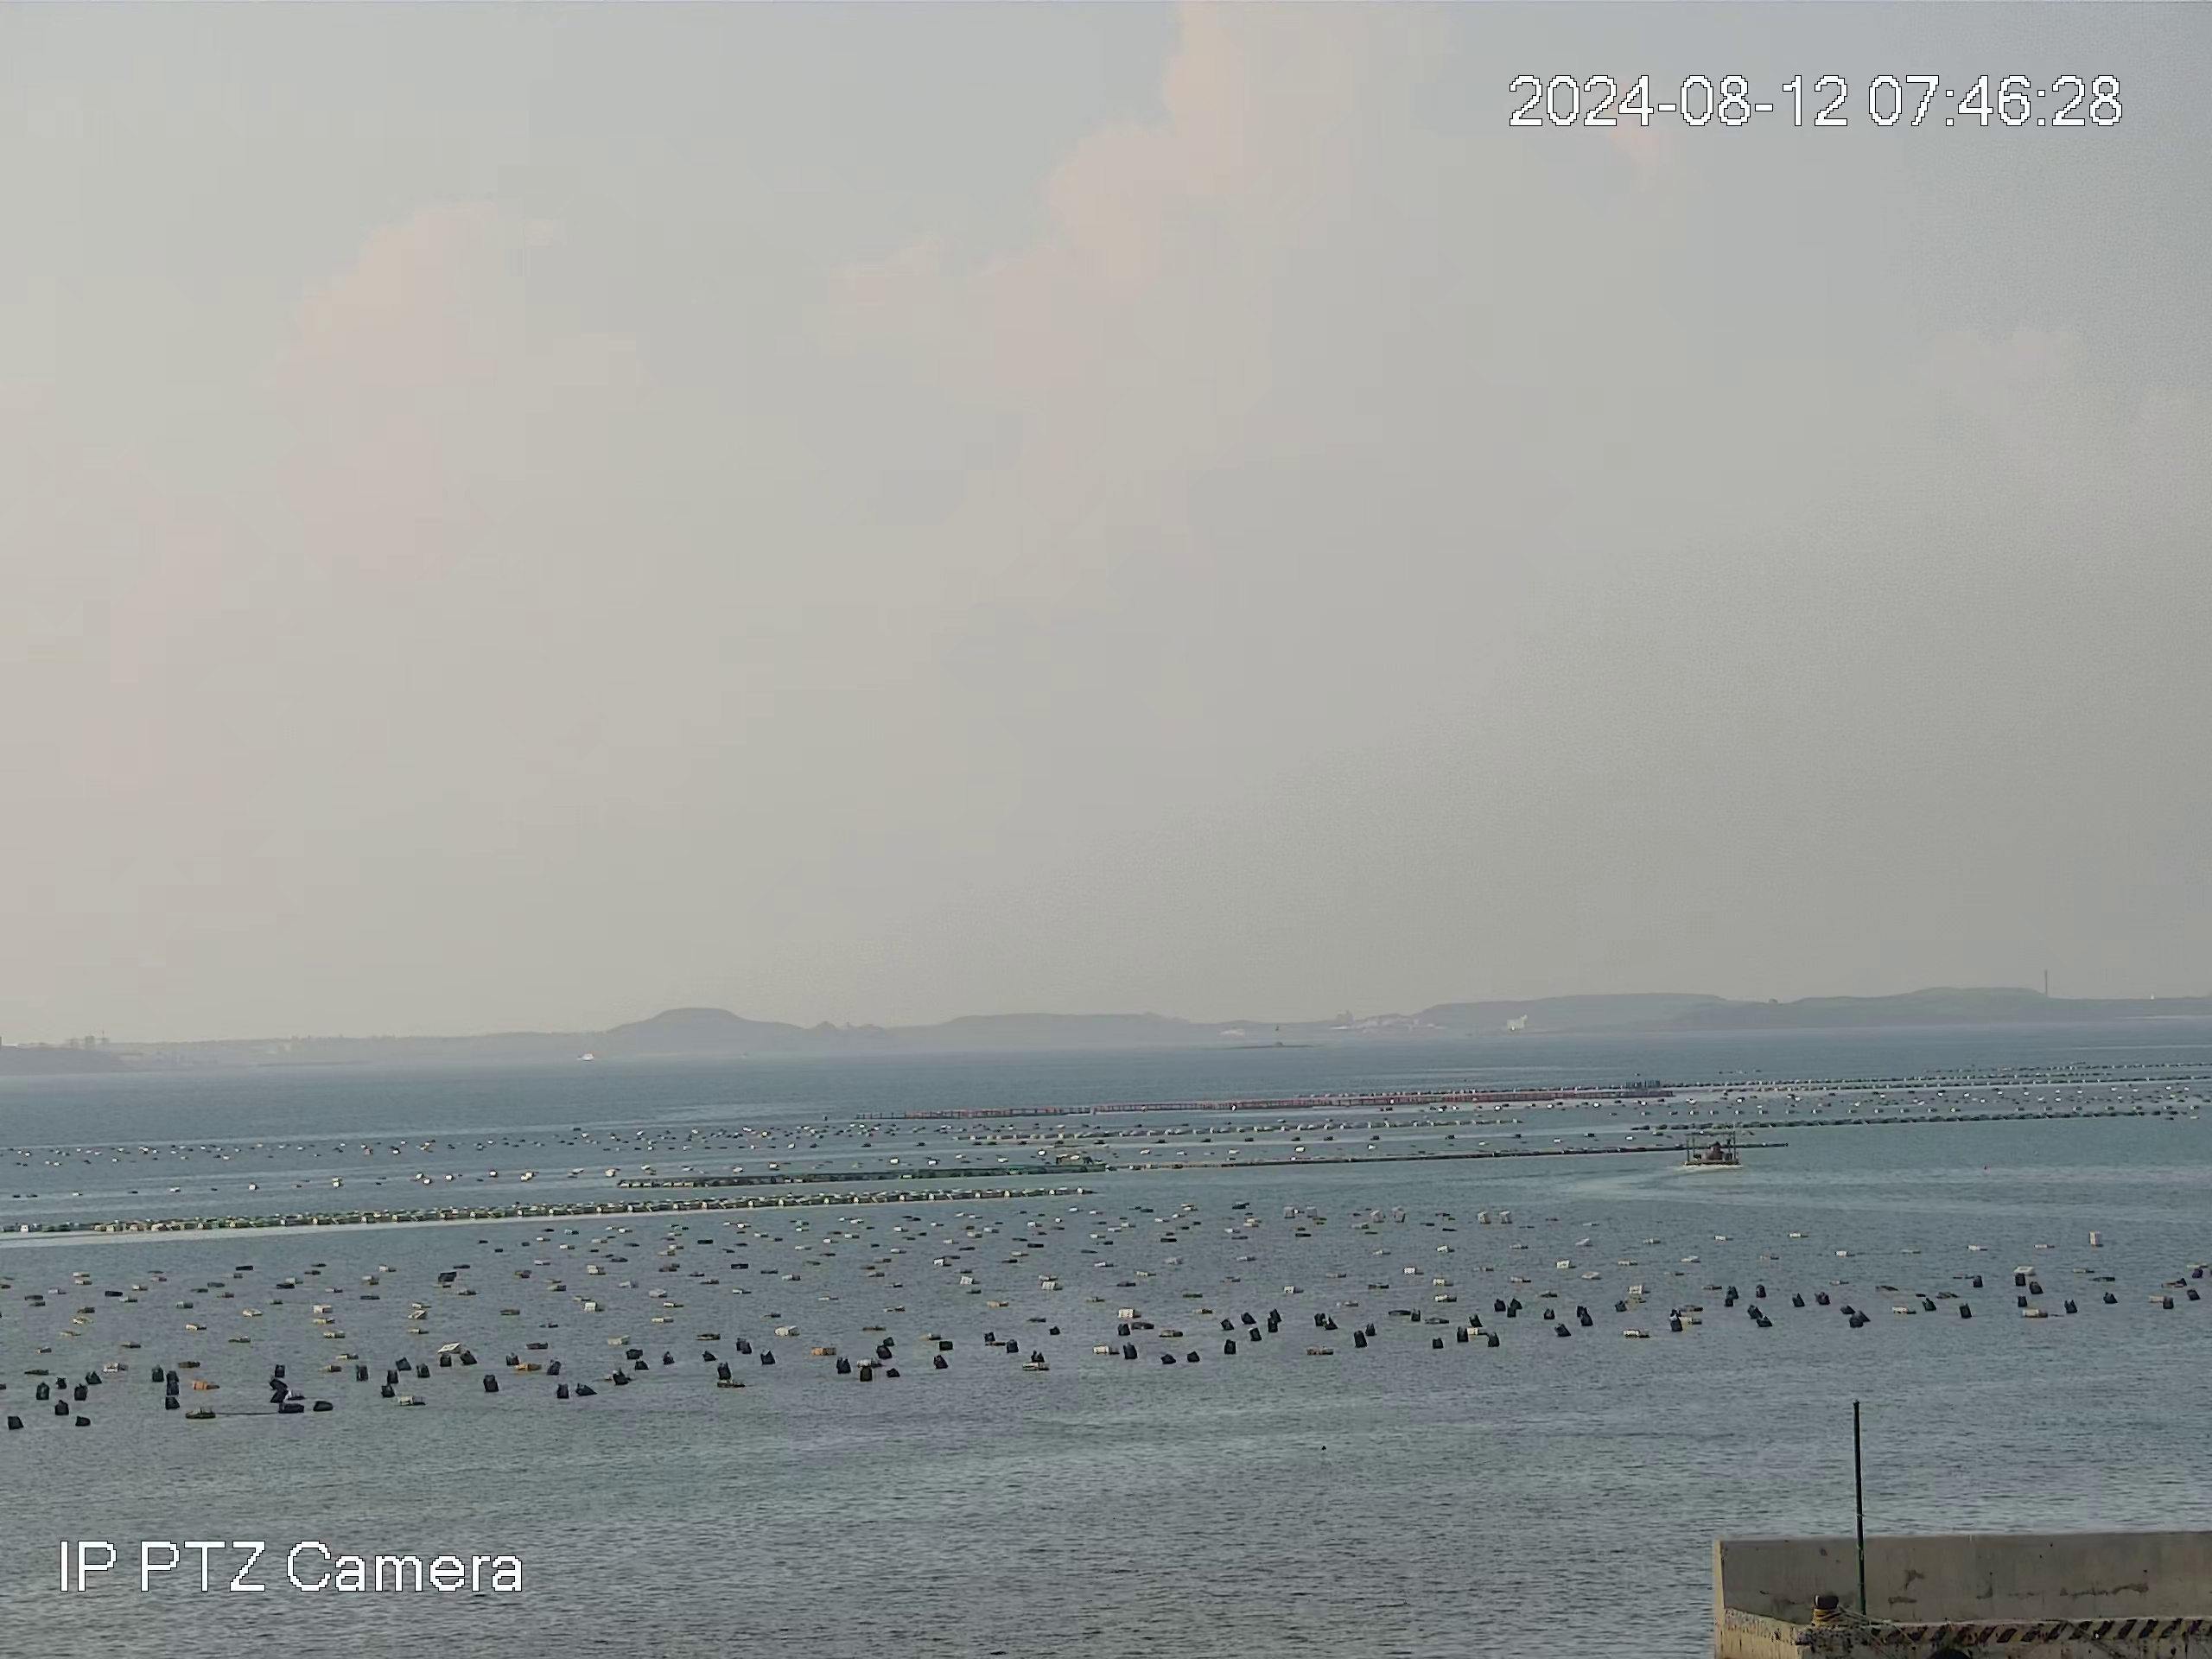boat: (1683, 1129, 1743, 1168)
